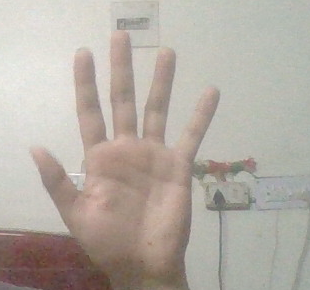move: (31, 31, 222, 290)
